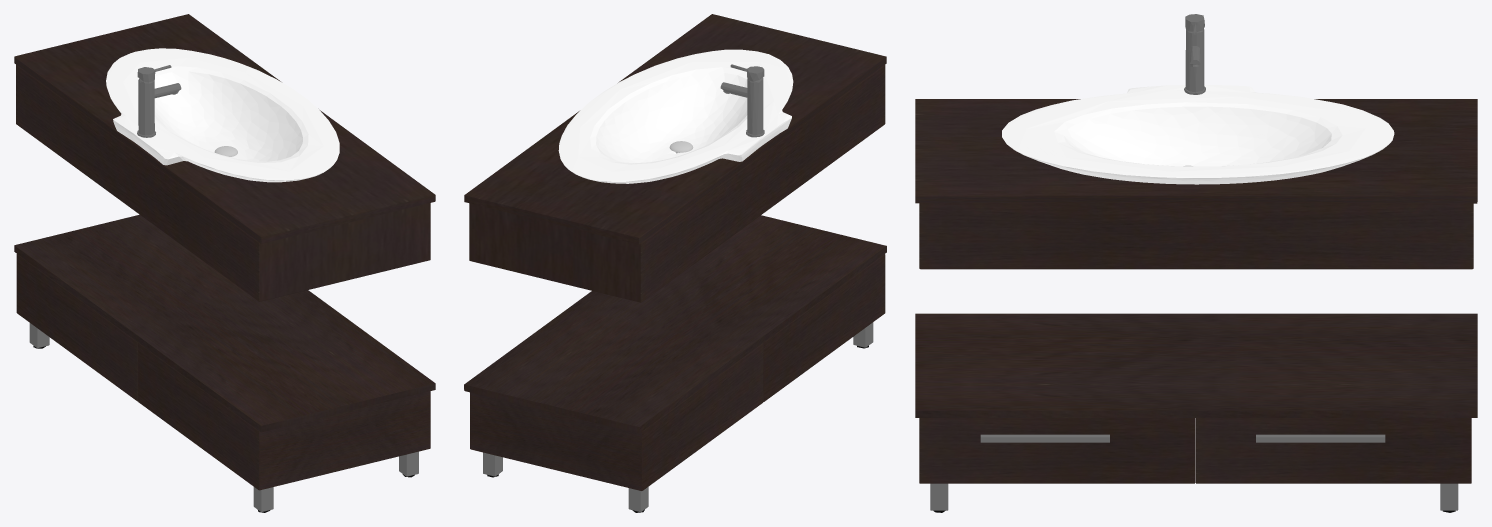
File: RN-8281-MUEBLE-W.glb
3 renders of one model, left to right at view 1: azimuth 30°, elevation 25°; view 2: azimuth 150°, elevation 25°; view 3: azimuth 270°, elevation 25°, orthographic. The views are drawn at different scales.
Parts seen in each view (by area): view 1: ChamferBox002, ChamferBox004, Line001, Cylinder001, ChamferBox006; view 2: ChamferBox002, ChamferBox004, Line001, Cylinder001, ChamferBox006; view 3: ChamferBox002, ChamferBox004, Line001, Box002, Cylinder001, ChamferBox006.
Boxes of the visible parts, bbox=[...] form: ChamferBox002: bbox=[14, 14, 435, 432]; ChamferBox004: bbox=[16, 65, 430, 490]; Line001: bbox=[106, 48, 339, 182]; Cylinder001: bbox=[137, 65, 181, 137]; ChamferBox006: bbox=[29, 323, 418, 511]; ChamferBox002: bbox=[464, 14, 886, 433]; ChamferBox004: bbox=[469, 65, 885, 490]; Line001: bbox=[558, 49, 793, 183]; Cylinder001: bbox=[720, 64, 764, 137]; ChamferBox006: bbox=[483, 322, 873, 512]; ChamferBox002: bbox=[915, 99, 1477, 417]; ChamferBox004: bbox=[919, 203, 1473, 483]; Line001: bbox=[1002, 85, 1394, 184]; Box002: bbox=[980, 434, 1385, 442]; Cylinder001: bbox=[1184, 14, 1205, 94]; ChamferBox006: bbox=[930, 483, 1458, 510].
Bounding box in the file's own units: 0.5985 × 1.15 × 1.44.
5 materials, 1 textured.
